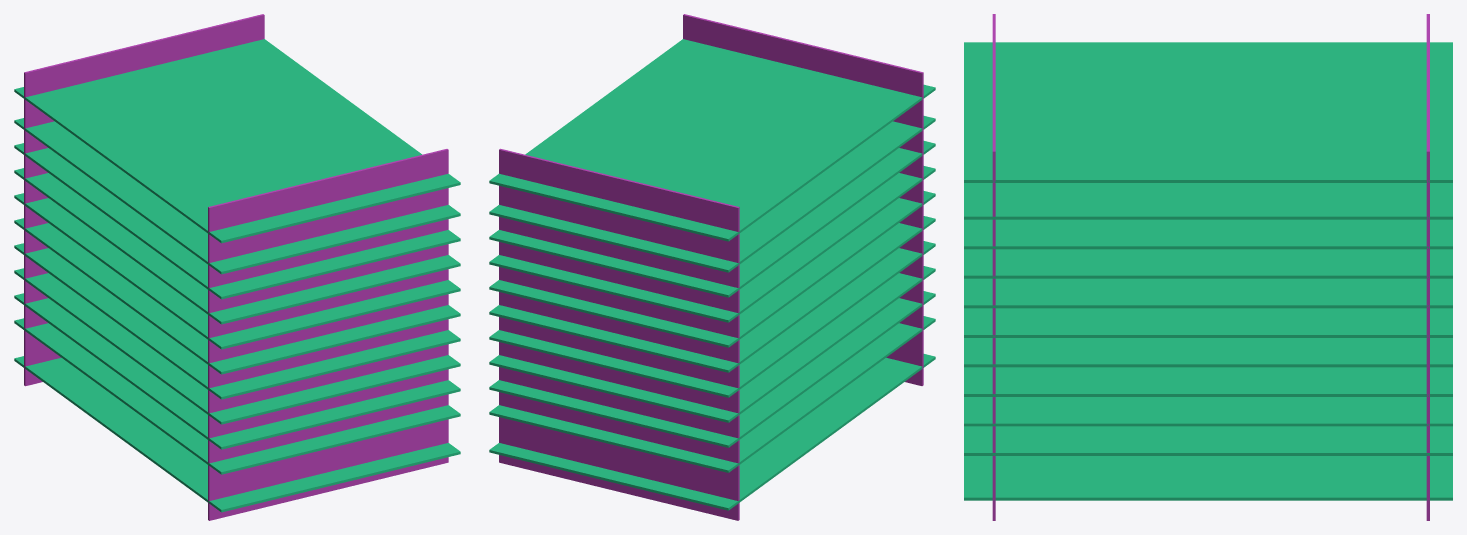
File: simple_struct.glb
3 renders of one model, left to right at view 1: azimuth 30°, elevation 25°; view 2: azimuth 150°, elevation 25°; view 3: azimuth 270°, elevation 25°, orthographic. The views are drawn at different scales.
Visible parts, largest first — view 1: Cube.053, Cube.045, Cube.051, Cube.054, Cube.025, Cube.042, Cube.041, Cube.036, Cube.040, Cube.030, Cube.033, Cube.027 (+1 smaller); view 2: Cube.051, Cube.053, Cube.045, Cube.054, Cube.025, Cube.036, Cube.040, Cube.041, Cube.042, Cube.027, Cube.033, Cube.031 (+1 smaller); view 3: Cube.053, Cube.054, Cube.025, Cube.027, Cube.031, Cube.042, Cube.041, Cube.030, Cube.033, Cube.040, Cube.036, Cube.051 (+1 smaller).
Boxes of the visible parts, x1,y1,x2,y2 form: Cube.053: (14, 39, 460, 243); Cube.045: (208, 149, 448, 520); Cube.051: (24, 14, 264, 386); Cube.054: (14, 356, 460, 512); Cube.025: (14, 118, 460, 274); Cube.042: (14, 318, 460, 474); Cube.041: (14, 293, 460, 449); Cube.036: (14, 243, 460, 399); Cube.040: (14, 268, 460, 424); Cube.030: (14, 168, 460, 324); Cube.033: (14, 218, 460, 374); Cube.027: (14, 143, 460, 299); Cube.051: (499, 148, 739, 520); Cube.053: (489, 39, 935, 241); Cube.045: (683, 14, 923, 385); Cube.054: (489, 354, 935, 510); Cube.025: (489, 116, 935, 272); Cube.036: (489, 241, 935, 397); Cube.040: (489, 266, 935, 422); Cube.041: (489, 291, 935, 447); Cube.042: (489, 316, 935, 472); Cube.027: (489, 141, 935, 297); Cube.033: (489, 216, 935, 372); Cube.031: (489, 191, 935, 347); Cube.053: (964, 42, 1452, 182); Cube.054: (964, 456, 1452, 500); Cube.025: (964, 183, 1452, 219); Cube.027: (964, 219, 1452, 249); Cube.031: (964, 278, 1452, 308); Cube.042: (964, 426, 1452, 455); Cube.041: (964, 397, 1452, 426); Cube.030: (964, 249, 1452, 278); Cube.033: (964, 308, 1452, 337); Cube.040: (964, 367, 1452, 396); Cube.036: (964, 338, 1452, 367); Cube.051: (1426, 14, 1429, 520).
Size of the model in its own units: 2 by 2.5 by 3.
